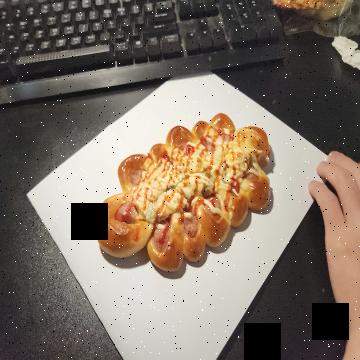pizza_bread: (95, 110, 271, 273)
